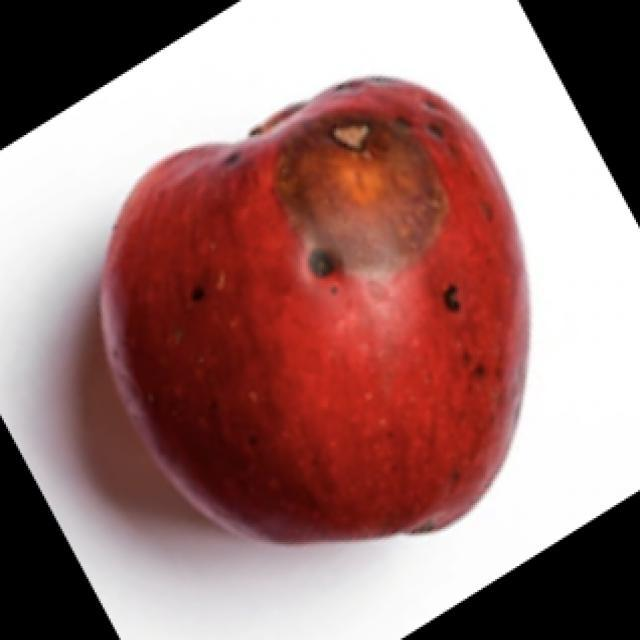Rotten: (119, 73, 514, 567)
